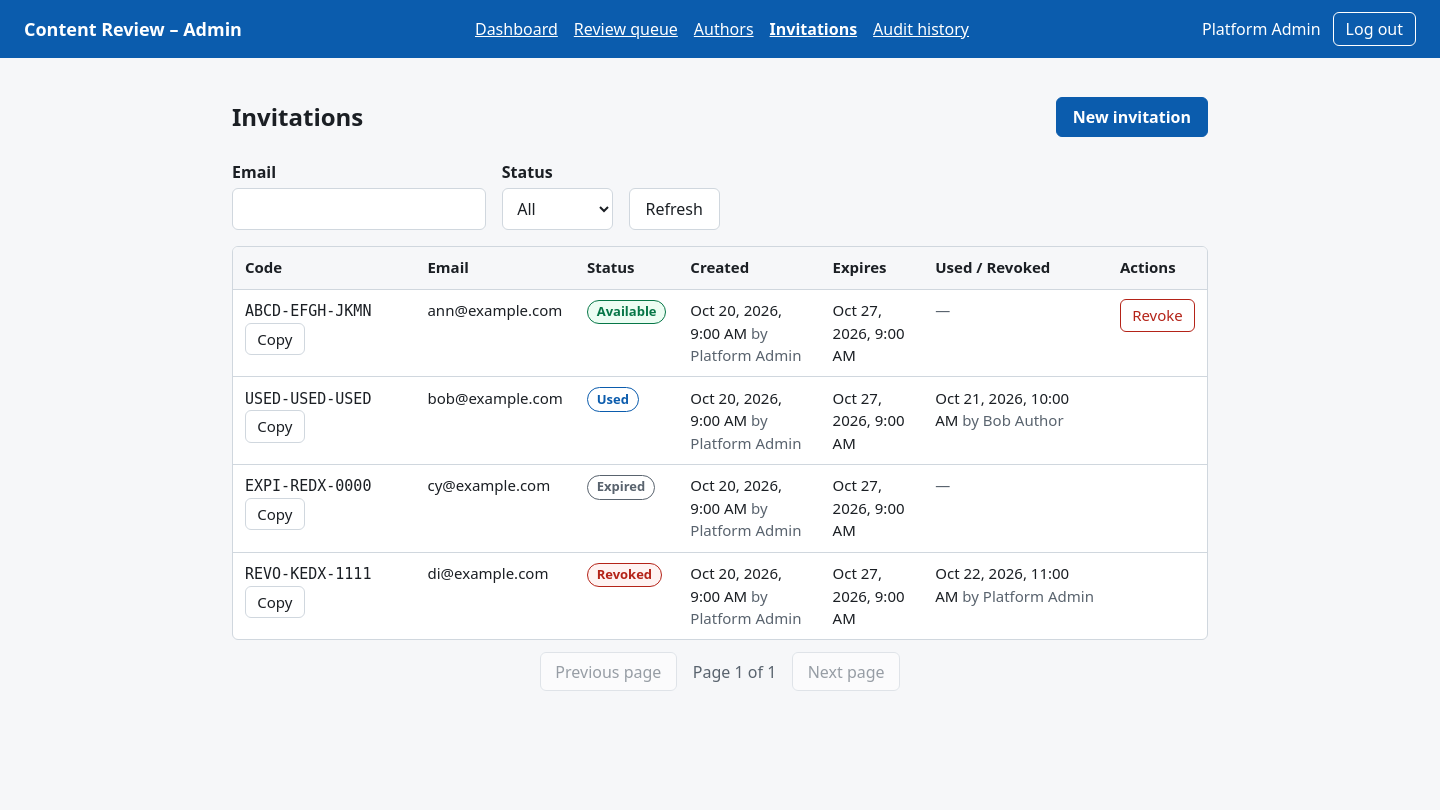
Test: revoking › revokes with the loaded version, then reloads and confirms
Check: the heading "Invitations" is shown, box [232, 102, 363, 132]
Check: the table is shown, box [233, 247, 1207, 639]
Click the button with test id "invitation-revoke-inv-available".
click(1157, 315)  # box [1120, 299, 1195, 332]
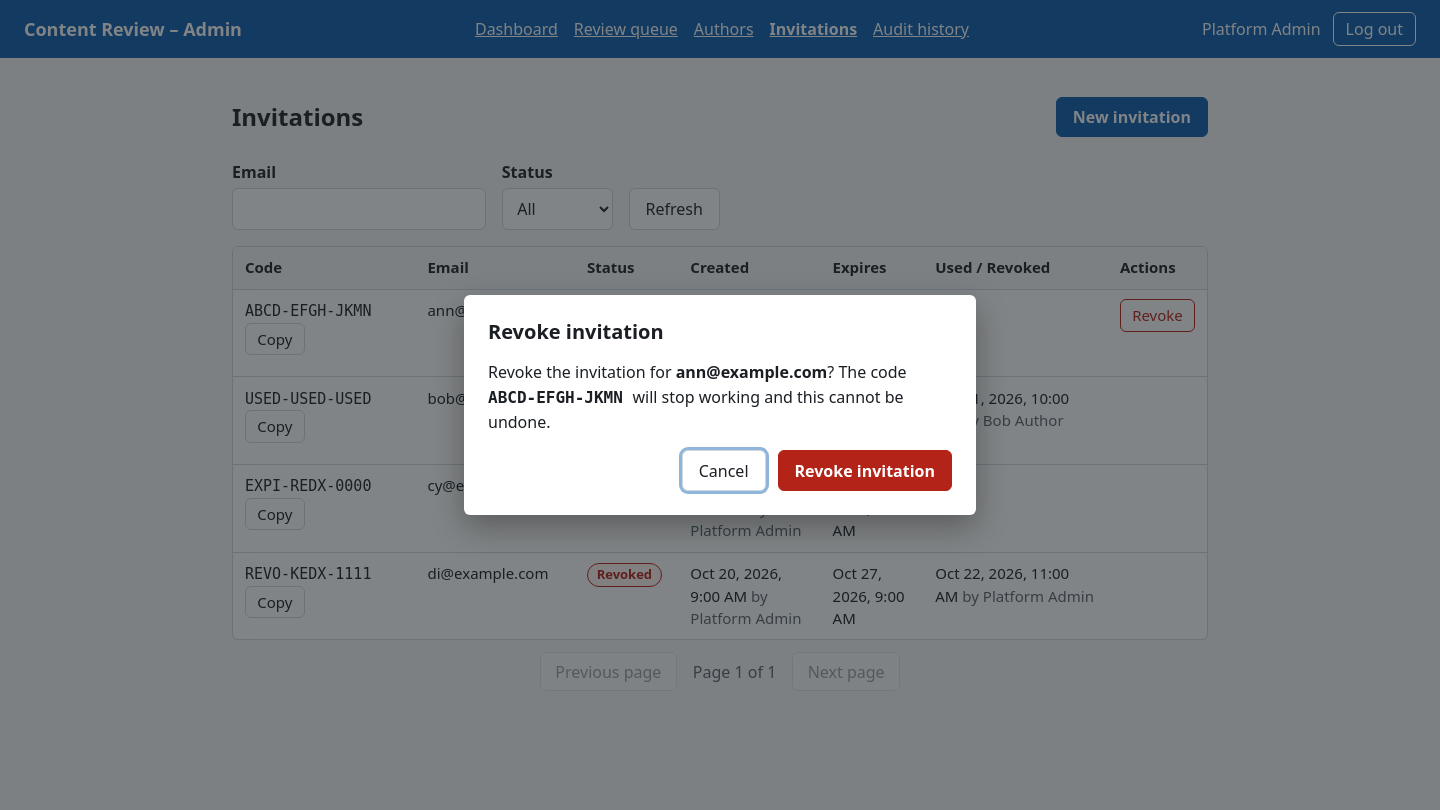
Click the button with test id "invitation-revoke-confirm".
click(865, 470)  # box [778, 450, 952, 491]
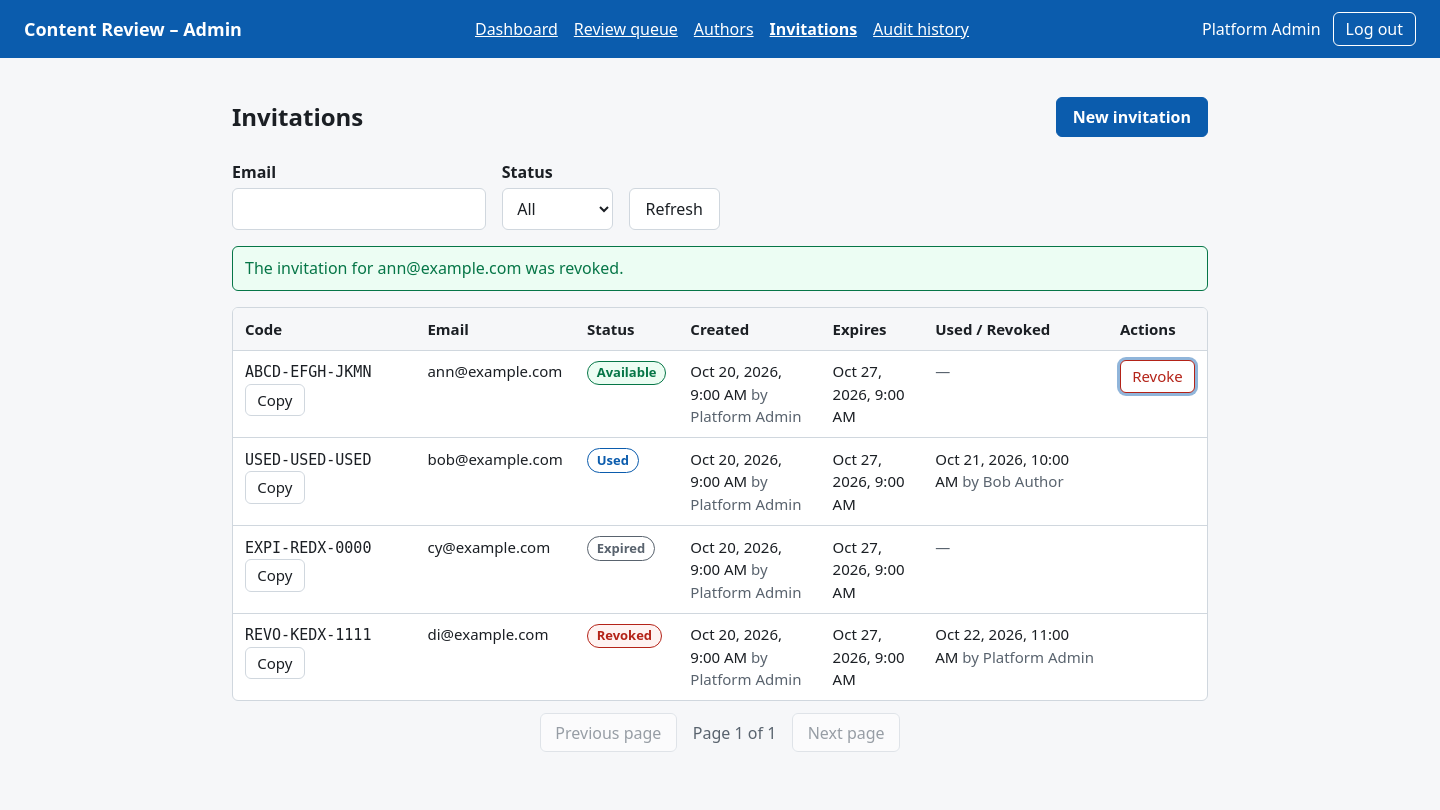
Check: the dialog is gone
Check: the message with test id "invitations-notice" reads "The invitation for ann@example.com was revoked.", box [245, 257, 624, 279]
